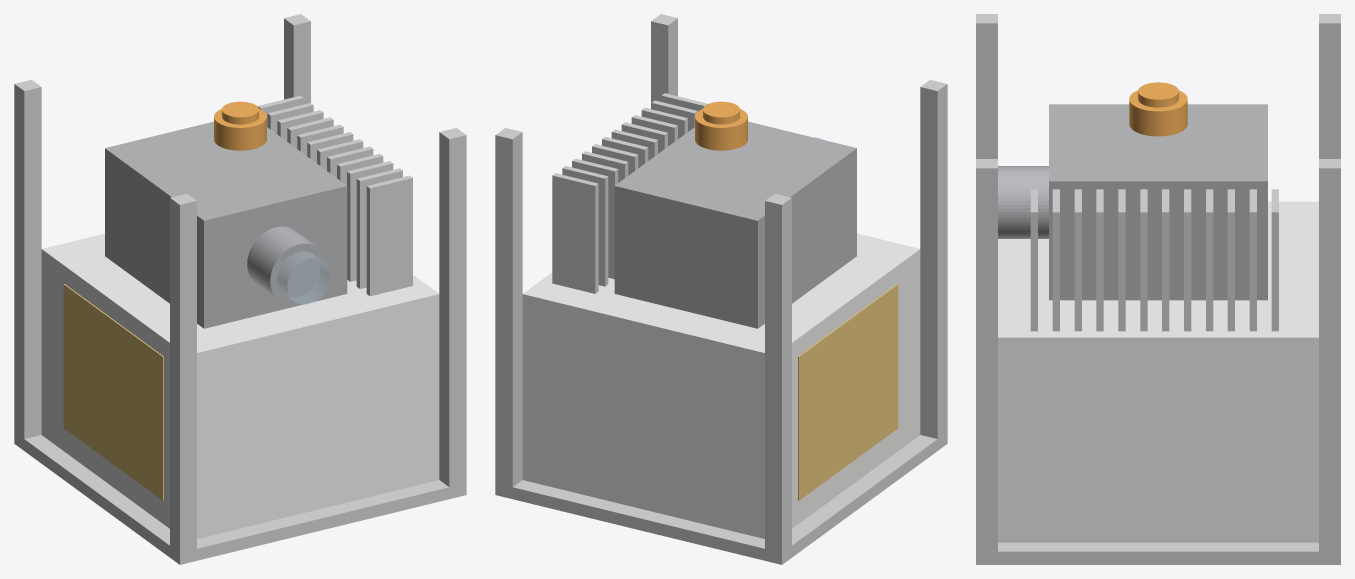
File: sci01_spectrometer_small.glb
3 views of the same model, side by side, from view 1: azimuth 30°, elevation 25°; view 2: azimuth 150°, elevation 25°; view 3: azimuth 270°, elevation 25° (orthographic). The views are drawn at different scales.
Parts seen in each view (by area): view 1: body, slot_frame, spectrometer, gold_panels, cooler, port_1, optics; view 2: body, slot_frame, spectrometer, gold_panels, cooler, port_1; view 3: body, spectrometer, slot_frame, cooler, port_1.
Part boxes in pixels (<box>): body: <box>41,233,439,538</box>; slot_frame: <box>14,14,466,564</box>; spectrometer: <box>105,121,347,328</box>; gold_panels: <box>63,284,163,500</box>; cooler: <box>257,95,412,296</box>; port_1: <box>214,101,266,150</box>; optics: <box>277,251,330,304</box>; body: <box>522,233,920,538</box>; slot_frame: <box>495,14,947,564</box>; spectrometer: <box>614,121,856,328</box>; gold_panels: <box>798,284,898,500</box>; cooler: <box>552,93,707,293</box>; port_1: <box>695,101,747,150</box>; body: <box>998,201,1318,542</box>; spectrometer: <box>998,104,1267,300</box>; slot_frame: <box>976,14,1340,564</box>; cooler: <box>1030,189,1278,331</box>; port_1: <box>1129,82,1187,136</box>.
Bounding box in the file's own units: 0.5 × 0.6 × 0.5.
